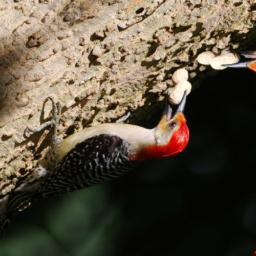Woodpecker: (0, 33, 219, 238)
